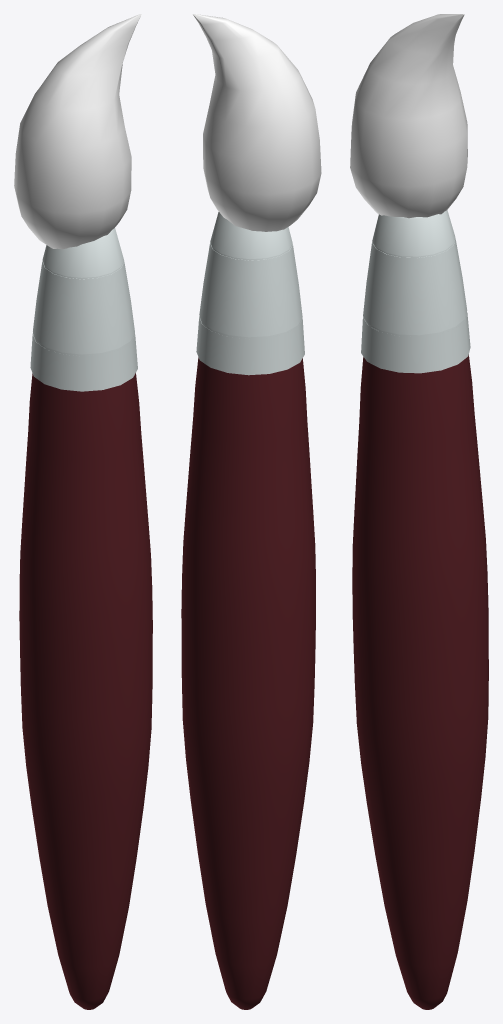
Rendered from brush.fbx.
The picture shows the model from 3 angles, left to right: view 1: azimuth 30°, elevation 25°; view 2: azimuth 210°, elevation 25°; view 3: azimuth 330°, elevation 25°; orthographic projection. The views are drawn at different scales.
Parts seen in each view (by area): view 1: handle, head; view 2: handle, head; view 3: handle, head.
Boxes of the visible parts, x1,y1,x2,y2 form: handle: (19,228,152,1009); head: (14,14,141,249); handle: (181,212,315,1009); head: (193,14,321,231); handle: (352,210,488,1009); head: (350,14,467,218).
Bounding box in the file's own units: 2.57 × 20.3 × 2.45.
